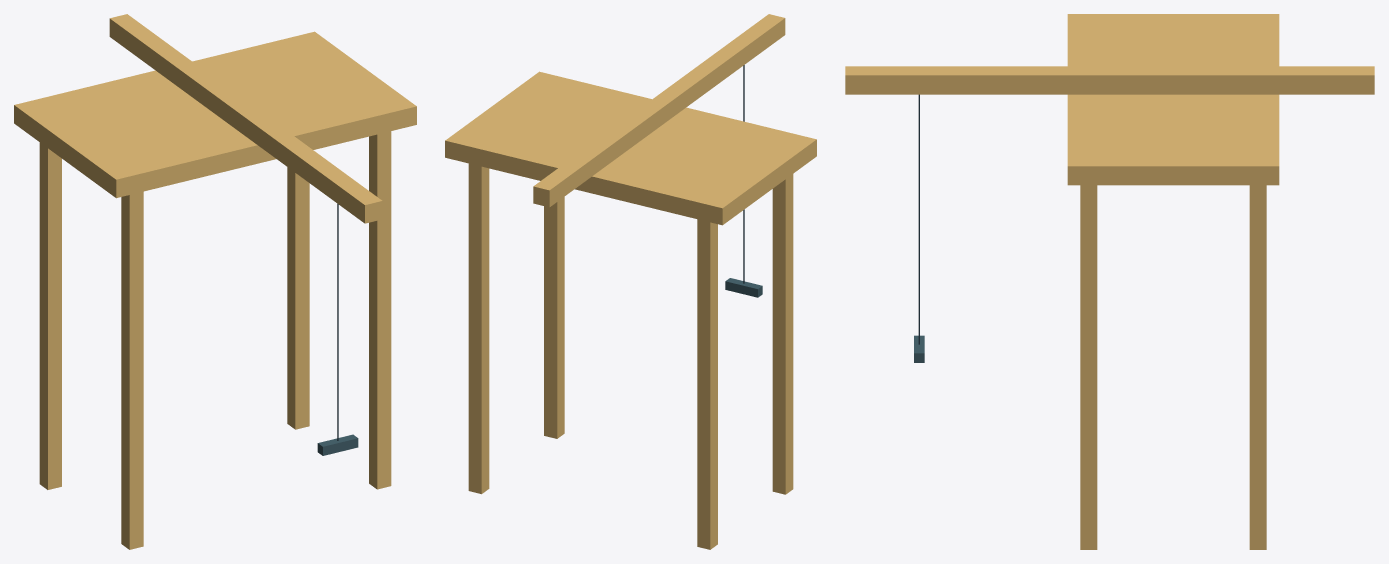
The model's file is gantryCrane.obj.
The picture shows the model from 3 angles, left to right: view 1: azimuth 30°, elevation 25°; view 2: azimuth 150°, elevation 25°; view 3: azimuth 270°, elevation 25°; orthographic projection. The views are drawn at different scales.
Visible parts, largest first — view 1: gantryCrane; view 2: gantryCrane; view 3: gantryCrane.
Boxes of the visible parts, box(x1,y1,x2,y2) form: gantryCrane: box(14, 14, 416, 549); gantryCrane: box(445, 14, 816, 549); gantryCrane: box(845, 14, 1374, 549).
Size of the model in its own units: 17 by 21.5 by 25.
